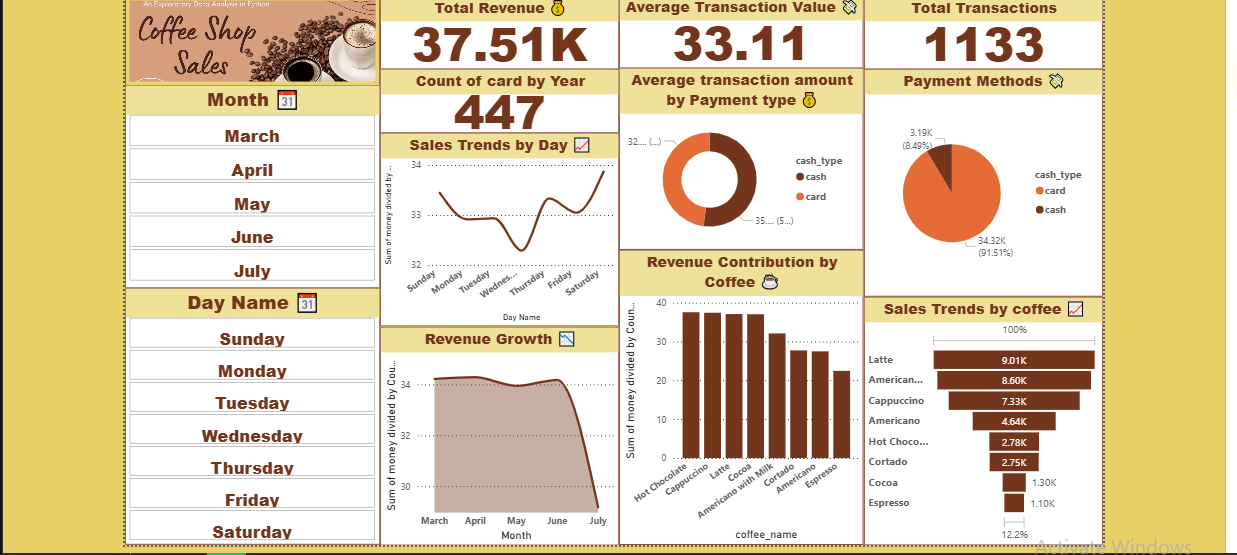

Layout of this report page (visuals, bound fields, positions):
{"tool":"powerbi","page":{"name":"Page 1","canvas":[1280,720],"ordinal":0},"visuals":[{"type":"pieChart","title":"Payment Methods 💸","fields":{"Y":["Sum(index (1).money)"],"Series":["index (1).cash_type"]},"box":[966.9,97,313,298.3],"z":0},{"type":"funnel","title":"Sales Trends by coffee 📈","fields":{"Y":["Sum(index (1).money)"],"Category":["index (1).coffee_name"]},"box":[966.9,395.3,313,324.7],"z":1000},{"type":"kpi","title":"Total Revenue  💰","fields":{"Indicator":["Sum(index (1).money)"],"TrendLine":["index (1).date.Variation.Date Hierarchy.Year"]},"box":[333.6,1.5,313,95.5],"z":2000},{"type":"image","box":[0,1.5,333.6,117.6],"z":3000},{"type":"kpi","title":"Average Transaction  Value  💸","fields":{"Indicator":["index (1).Sum of money divided by Count of money"],"TrendLine":["index (1).date.Variation.Date Hierarchy.Year"]},"box":[646.5,0,320.3,95.5],"z":4000},{"type":"kpi","title":"Total Transactions ","fields":{"Indicator":["CountNonNull(index (1).money)"],"TrendLine":["index (1).date.Variation.Date Hierarchy.Year"]},"box":[966.9,1.5,313,95.5],"z":5000},{"type":"kpi","fields":{"Indicator":["Count(index (1).card)"],"TrendLine":["index (1).date.Variation.Date Hierarchy.Year"]},"box":[333.6,97,313,83.8],"z":6000},{"type":"advancedSlicerVisual","title":"Month 📆","fields":{"Values":["index (1).date.Variation.Date Hierarchy.Month"]},"box":[0,117.6,333.6,266],"z":7000},{"type":"advancedSlicerVisual","fields":{"Values":["index (1).Day Name"]},"box":[0,383.5,333.6,336.5],"z":8000},{"type":"lineChart","title":"Sales Trends by Day 📈","fields":{"Category":["index (1).Day Name"],"Y":["index (1).Sum of money divided by Count of money"]},"box":[333.6,180.7,313,252.7],"z":9000},{"type":"areaChart","title":"Revenue Growth  📉","fields":{"Y":["index (1).Sum of money divided by Count of money"],"Category":["index (1).date.Variation.Date Hierarchy.Month"]},"box":[334,434,313,286],"z":10000},{"type":"lineClusteredColumnComboChart","title":"Revenue Contribution by Coffee ☕","fields":{"Category":["index (1).coffee_name"],"Y":["index (1).Sum of money divided by Count of money"]},"box":[646.5,333.6,320.3,386.4],"z":11000},{"type":"donutChart","title":"Average transaction amount  by Payment type 💰","fields":{"Category":["index (1).cash_type"],"Y":["index (1).Sum of money divided by Count of money"]},"box":[646.5,95.5,320.3,238],"z":12000}]}

Visuals, with their boxes in screenshot pixels (x1, y1, x2, y2):
"Payment Methods 💸" pieChart: BBox(859, 70, 1097, 297)
"Sales Trends by coffee 📈" funnel: BBox(859, 297, 1097, 543)
"Total Revenue  💰" kpi: BBox(379, 0, 616, 70)
image: BBox(126, 0, 379, 87)
"Average Transaction  Value  💸" kpi: BBox(616, 0, 859, 69)
"Total Transactions " kpi: BBox(859, 0, 1097, 70)
kpi - Count(index (1).card) x index (1).date.Variation.Date Hierarchy.Year: BBox(379, 70, 616, 134)
"Month 📆" advancedSlicerVisual: BBox(126, 86, 379, 288)
advancedSlicerVisual - index (1).Day Name: BBox(126, 288, 379, 543)
"Sales Trends by Day 📈" lineChart: BBox(379, 134, 616, 326)
"Revenue Growth  📉" areaChart: BBox(379, 326, 617, 543)
"Revenue Contribution by Coffee ☕" lineClusteredColumnComboChart: BBox(616, 250, 859, 543)
"Average transaction amount  by Payment type 💰" donutChart: BBox(616, 69, 859, 250)
